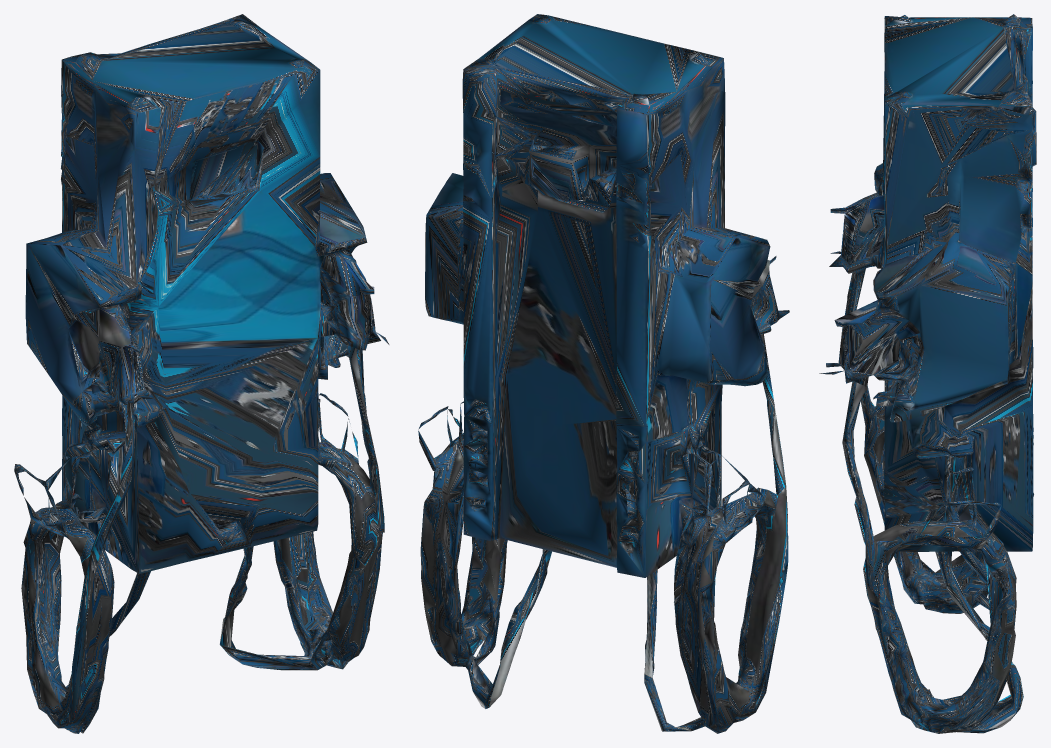
The model's file is charger-far.glb.
3 renders of one model, left to right at view 1: azimuth 30°, elevation 25°; view 2: azimuth 150°, elevation 25°; view 3: azimuth 270°, elevation 25°, orthographic. The views are drawn at different scales.
Size of the model in its own units: 0.9882 by 2 by 0.6261.
Materials: 1 (1 with a texture image).
